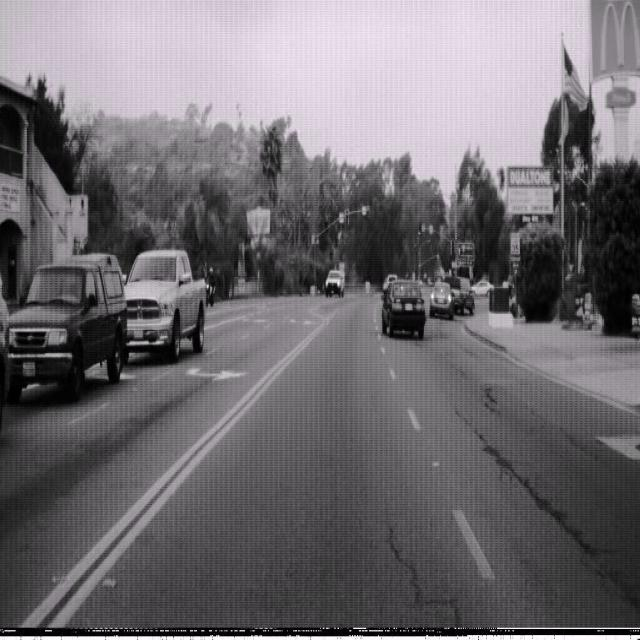speedLimit35: (510, 231, 520, 256)
